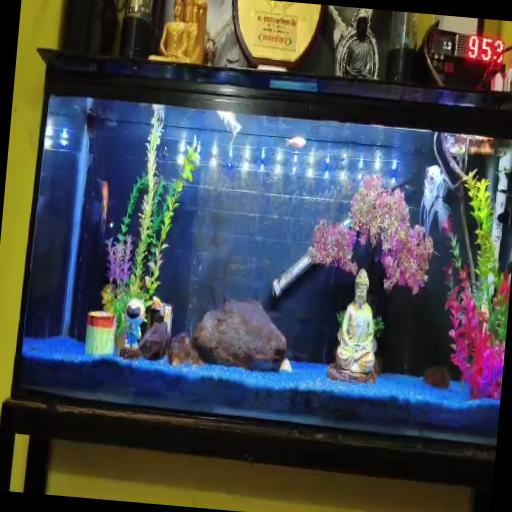Fish: (420, 165, 450, 236), (217, 111, 241, 145), (101, 180, 109, 237), (288, 136, 306, 149)
